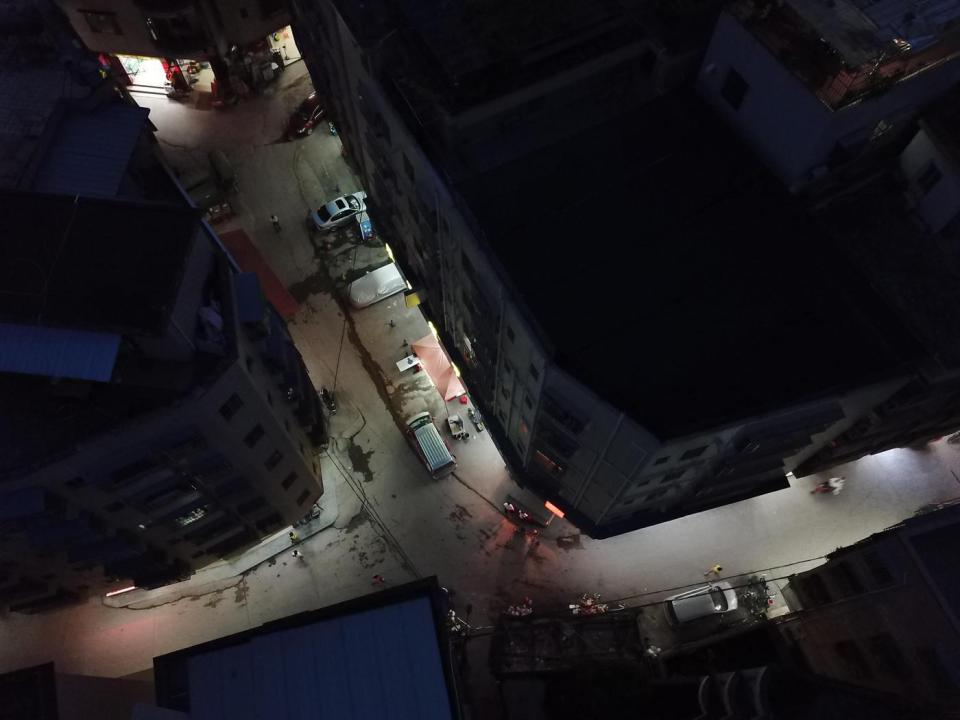car: (663, 581, 738, 630), (346, 260, 416, 308), (312, 190, 375, 233), (289, 87, 334, 137)
van: (406, 411, 458, 480)
